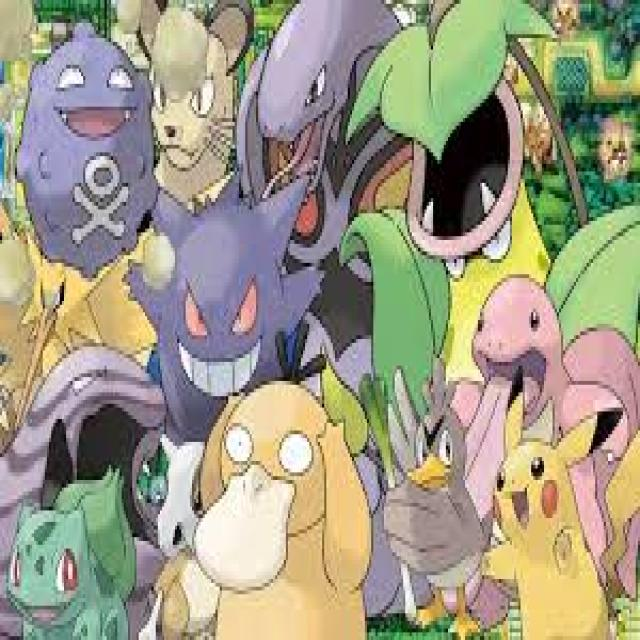Arbok: (242, 4, 416, 276)
Bulbasaur: (12, 471, 132, 640)
Cubone: (152, 431, 219, 640)
Farfetchd: (391, 368, 491, 640)
Gengar: (156, 184, 293, 420)
Koffing: (18, 18, 160, 279)
Muk: (2, 351, 165, 519)
Pikachu: (493, 421, 609, 640)
Psyduck: (206, 381, 368, 640)
Victreebel: (405, 36, 558, 380)
